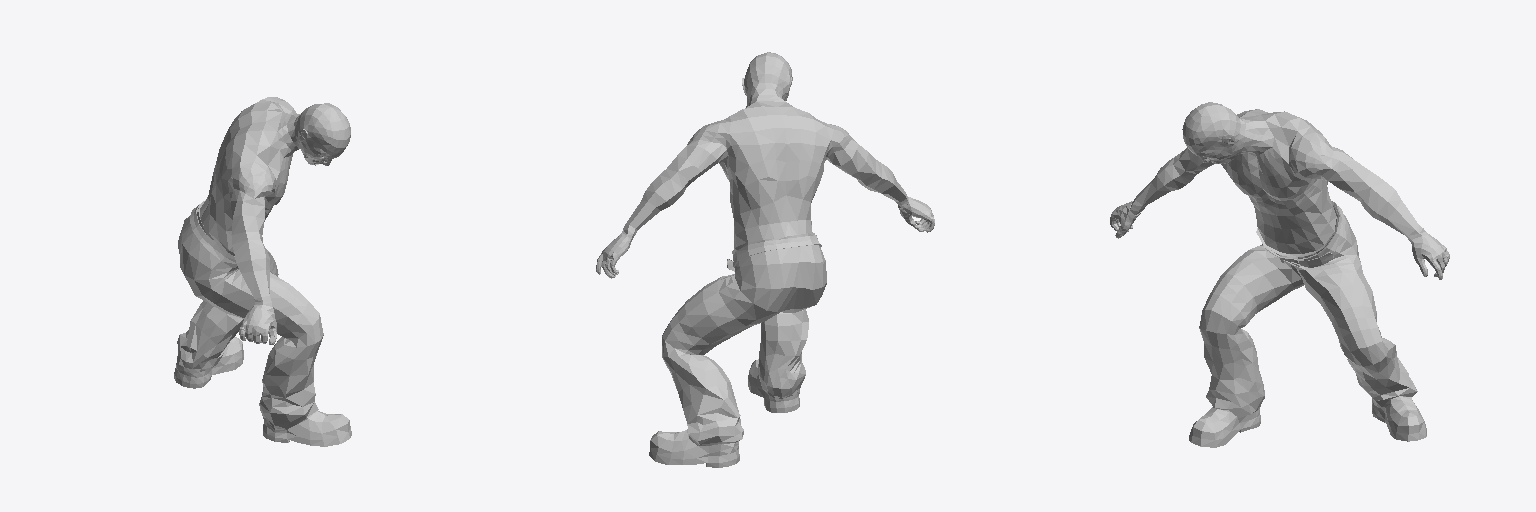
3 views of the same model, side by side, from view 1: azimuth 30°, elevation 25°; view 2: azimuth 150°, elevation 25°; view 3: azimuth 270°, elevation 25° (orthographic).
Visible parts, largest first — view 1: Thug; view 2: Thug; view 3: Thug.
Part boxes in pixels (x1,y1,x2,y2): Thug: (174, 97, 351, 446); Thug: (596, 52, 934, 467); Thug: (1110, 102, 1449, 447).
Bounding box in the file's own units: 80.82 × 142 × 130.